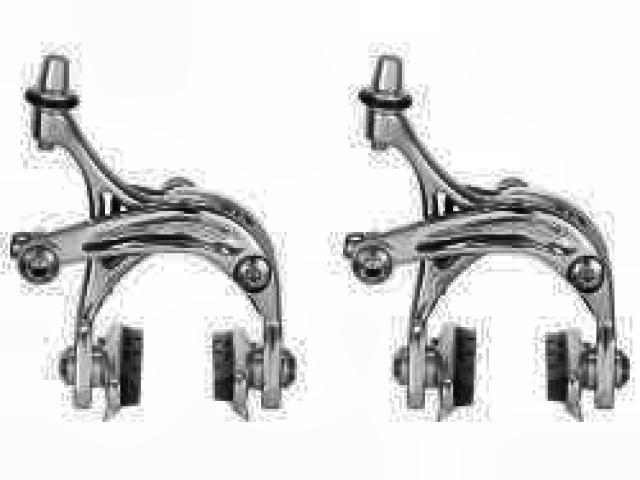rim_brake: (7, 49, 298, 422), (344, 53, 632, 427)
